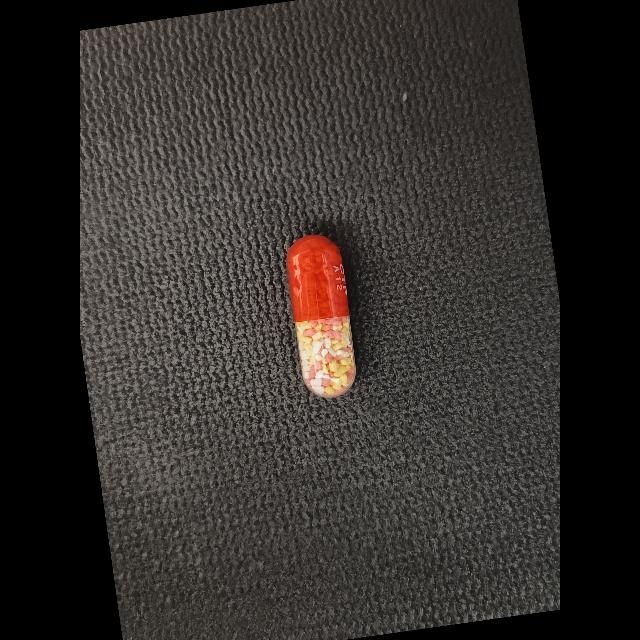Intact Capsule: (287, 235, 356, 398)
